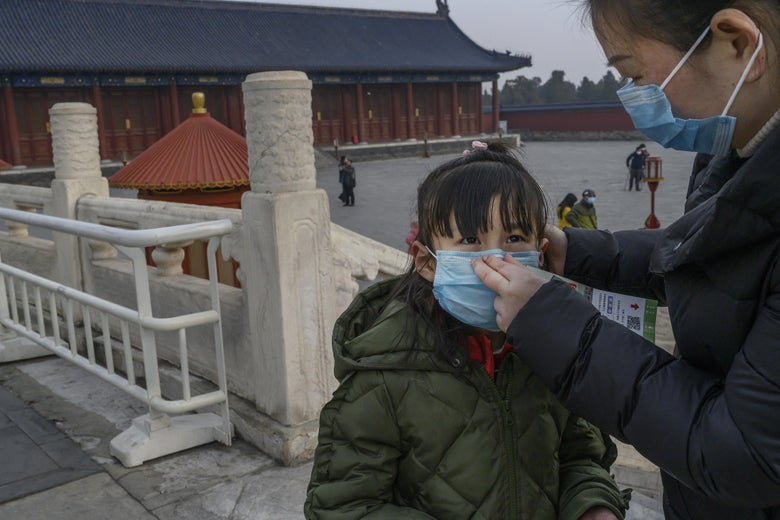surgical: (425, 247, 549, 330)
